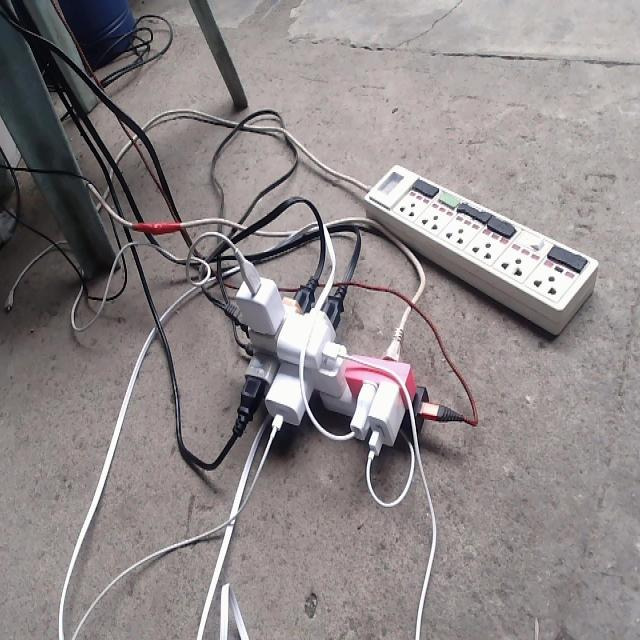-: (232, 258, 433, 450)
